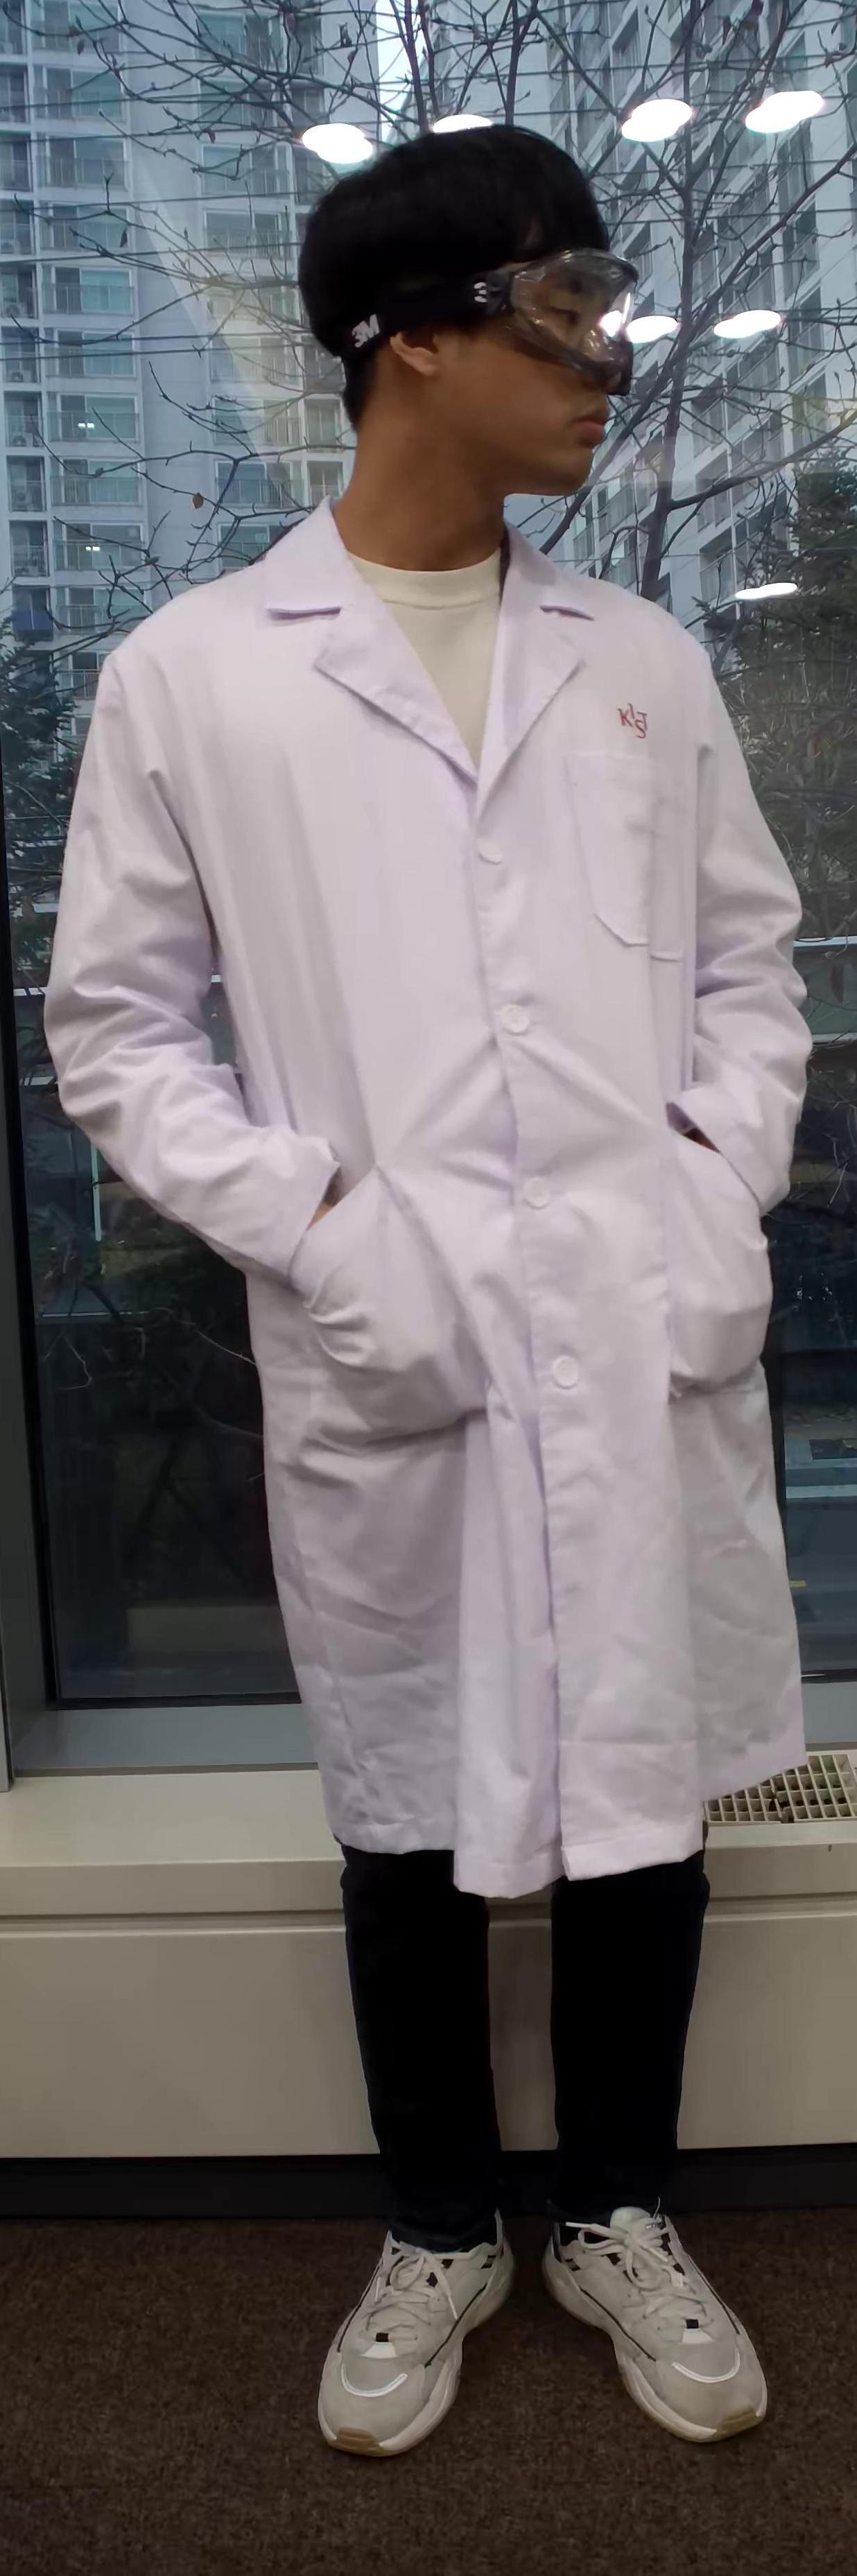lab_coat: (85, 598, 809, 1794)
